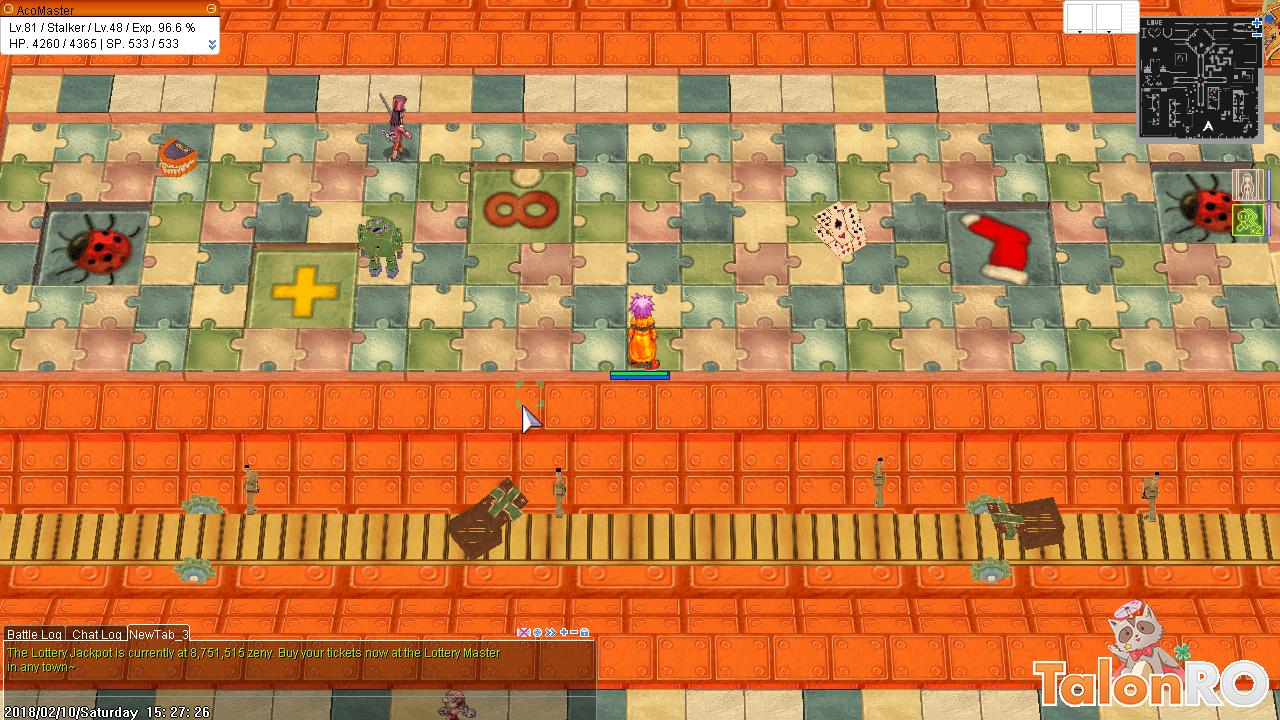mob: (370, 85, 423, 166)
